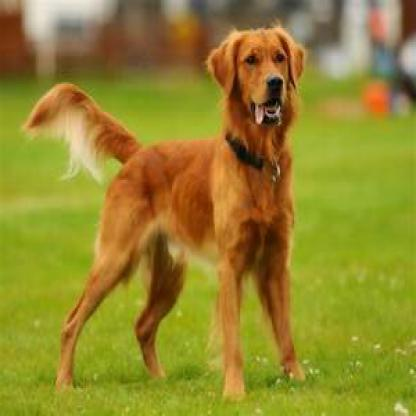dog: (32, 21, 316, 393)
